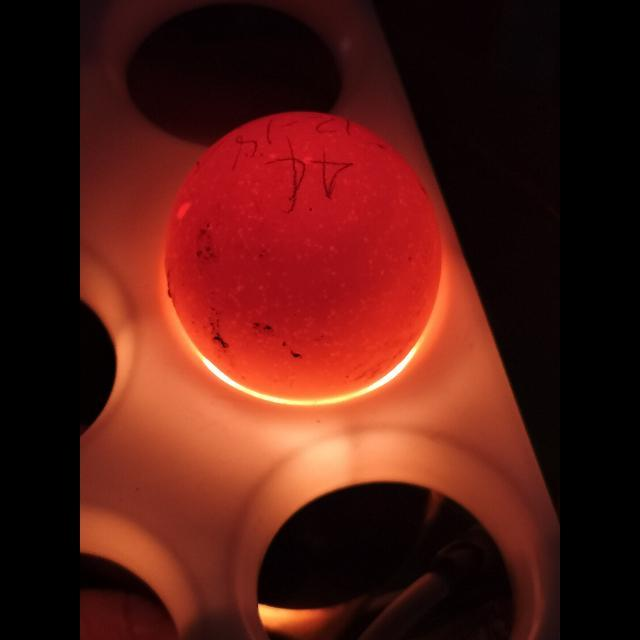Infertile: (164, 111, 442, 396)
